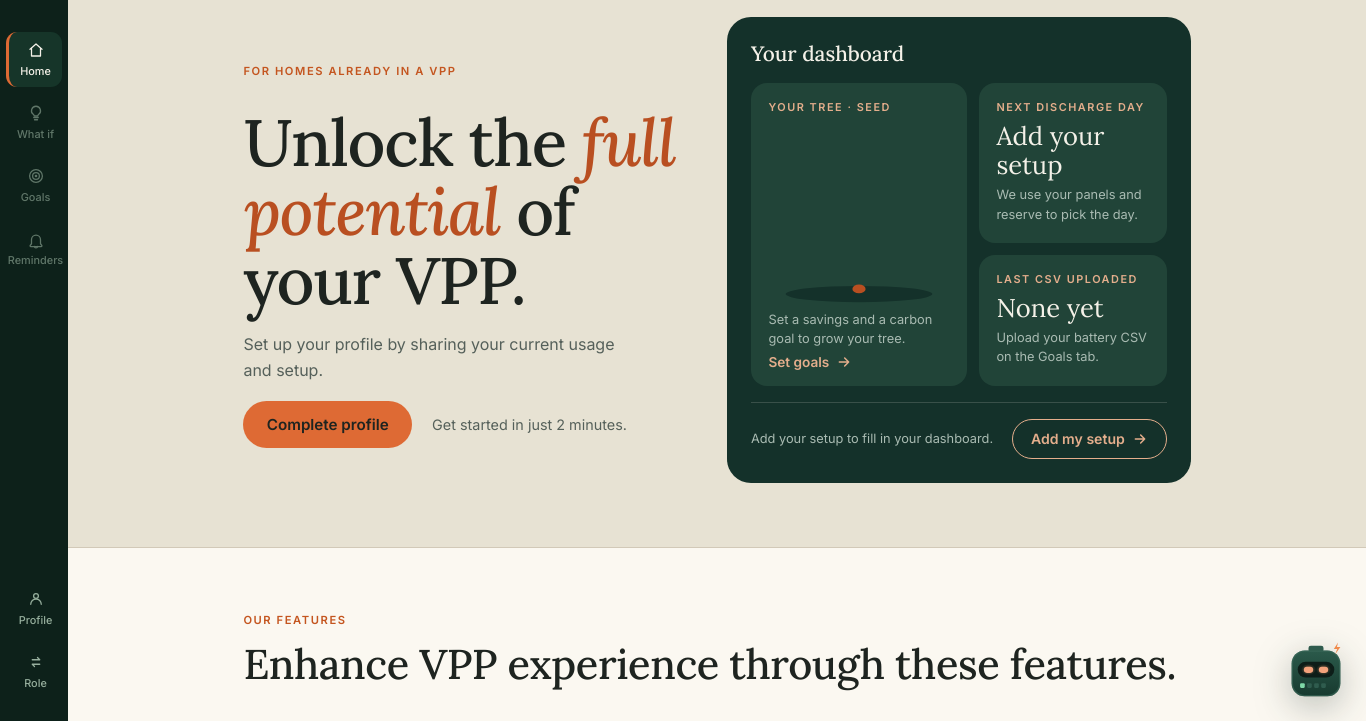
Test case: resetting the improve profile › keeps answers saved by the explore form when improve only added a VPP
Click the button "Profile" at (34, 608), box [6,581,62,635]
(page scrolled)
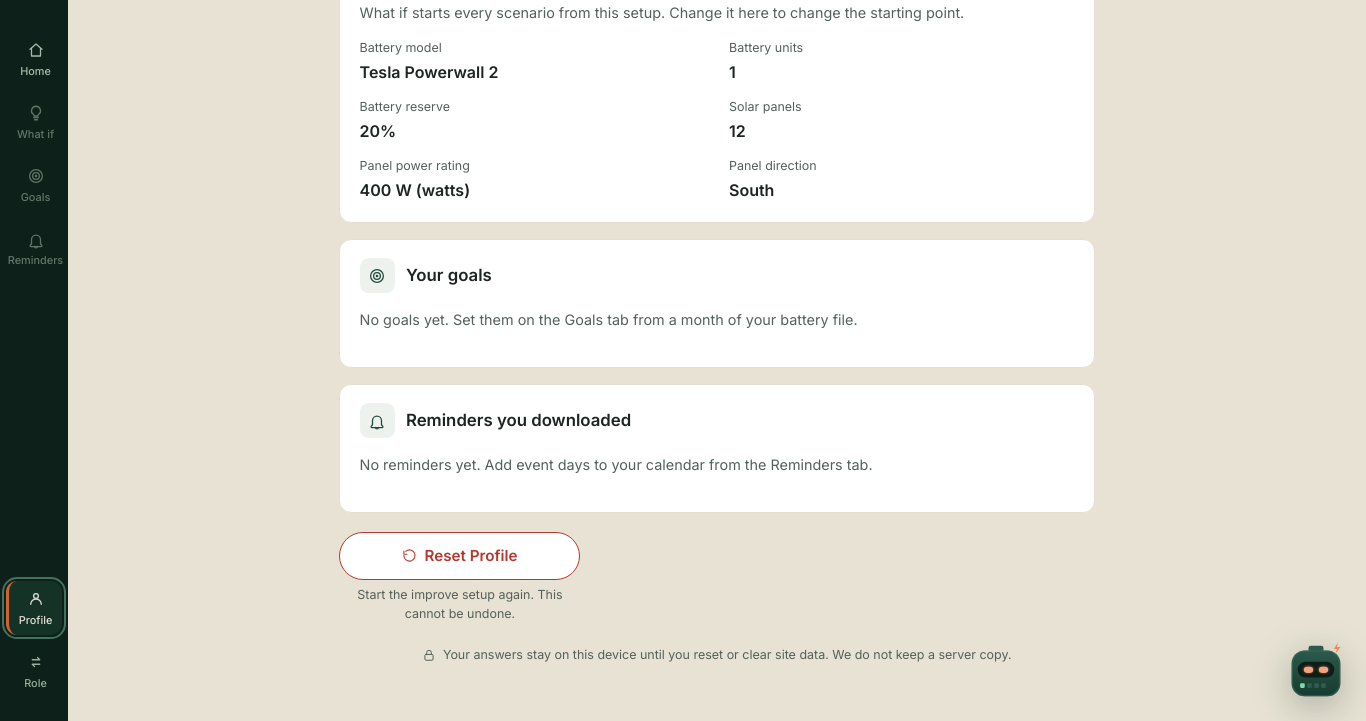
Click the button "Reset Profile" at (460, 556), box [339,532,580,580]
(page scrolled)
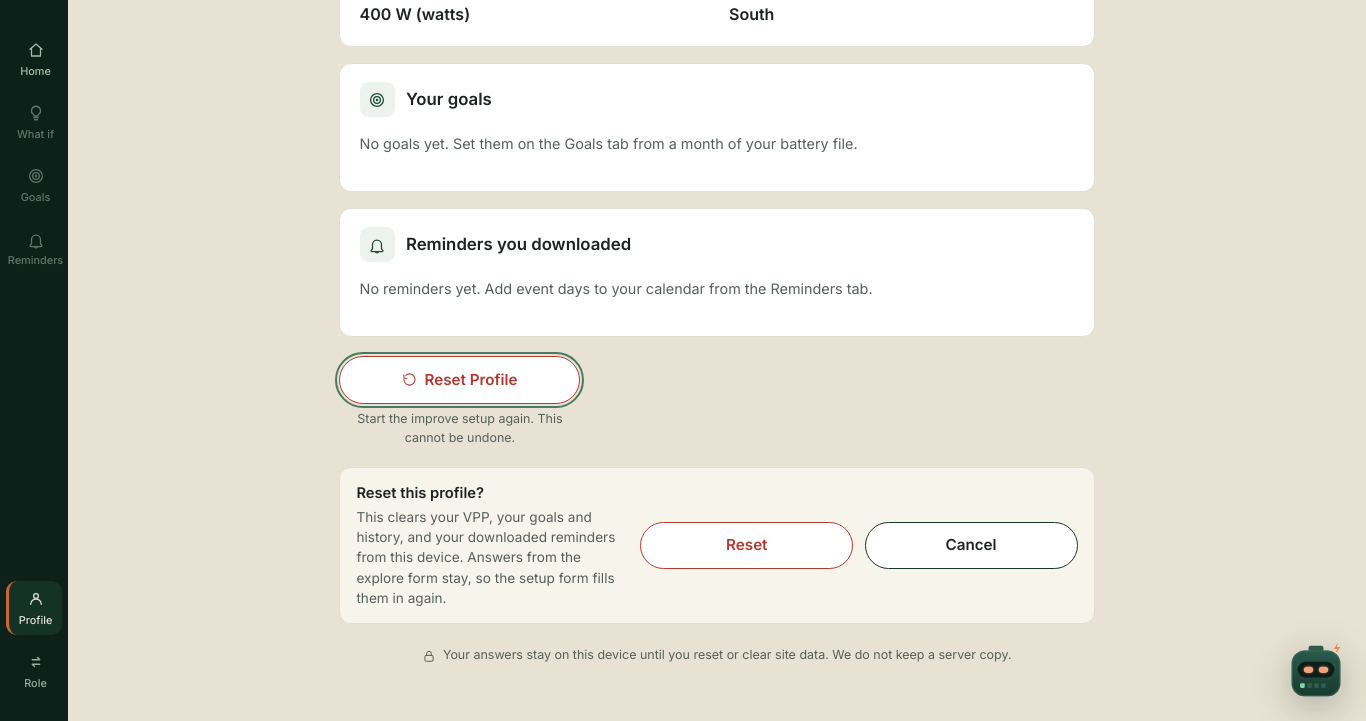
Click the button "Reset" at (747, 545), box [640,522,853,569]
(page scrolled)
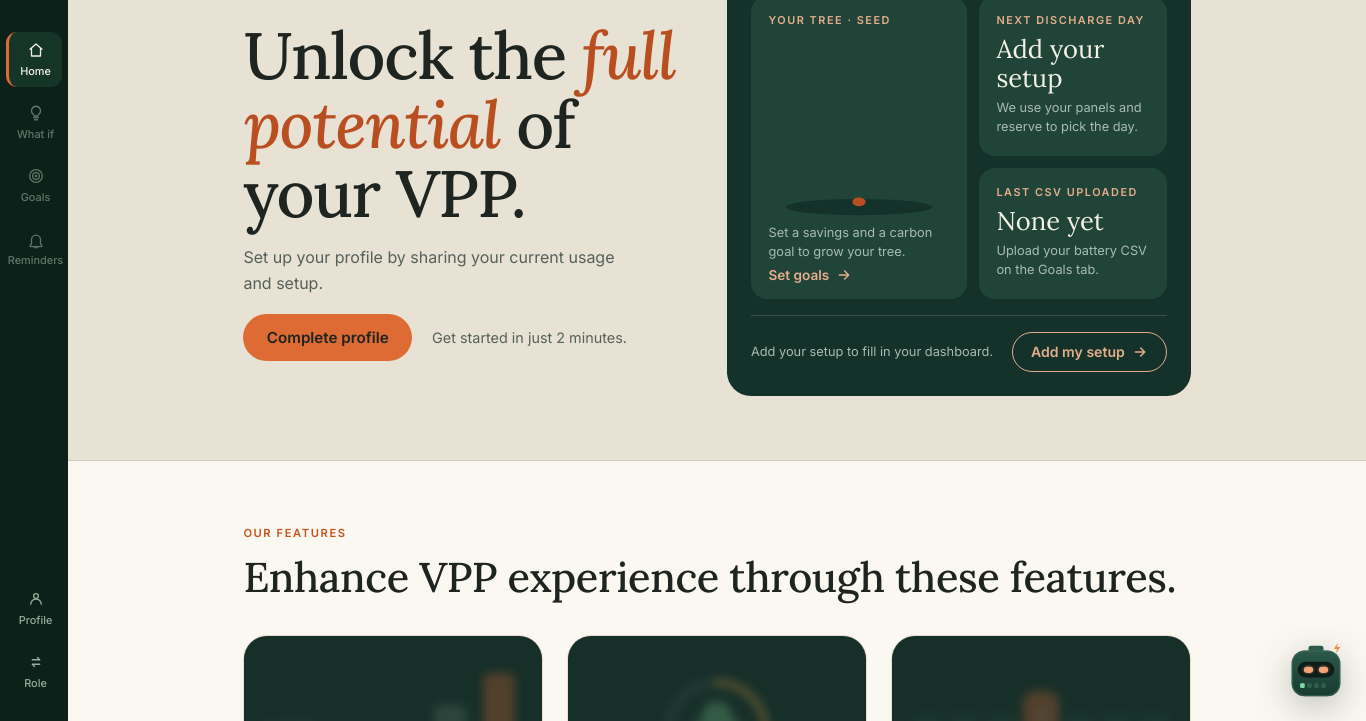
Expected: the button "Complete profile" is shown, [243,314,412,361]
